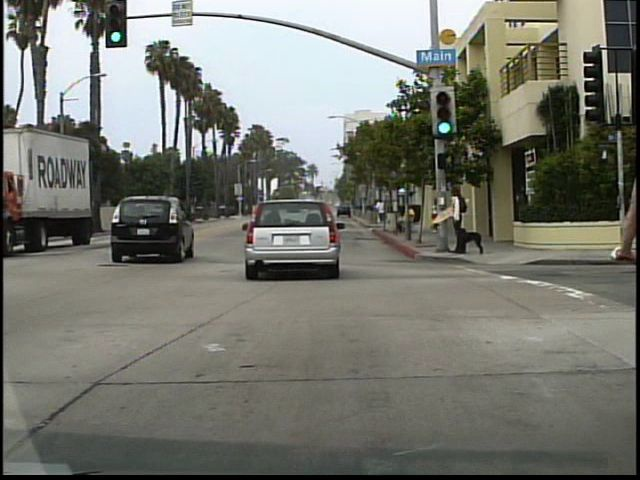person: (449, 184, 472, 252), (377, 196, 388, 228)
